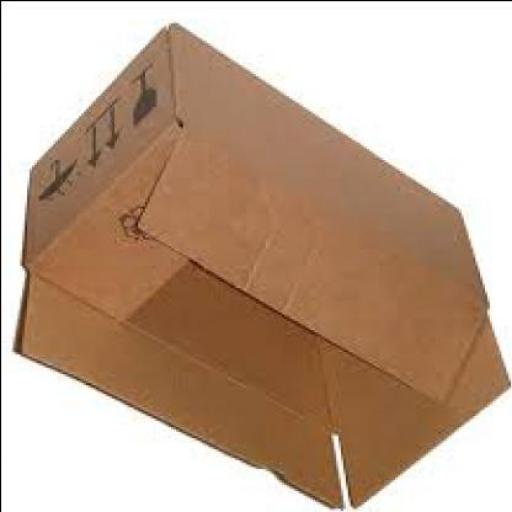cardboard: (10, 29, 509, 511)
